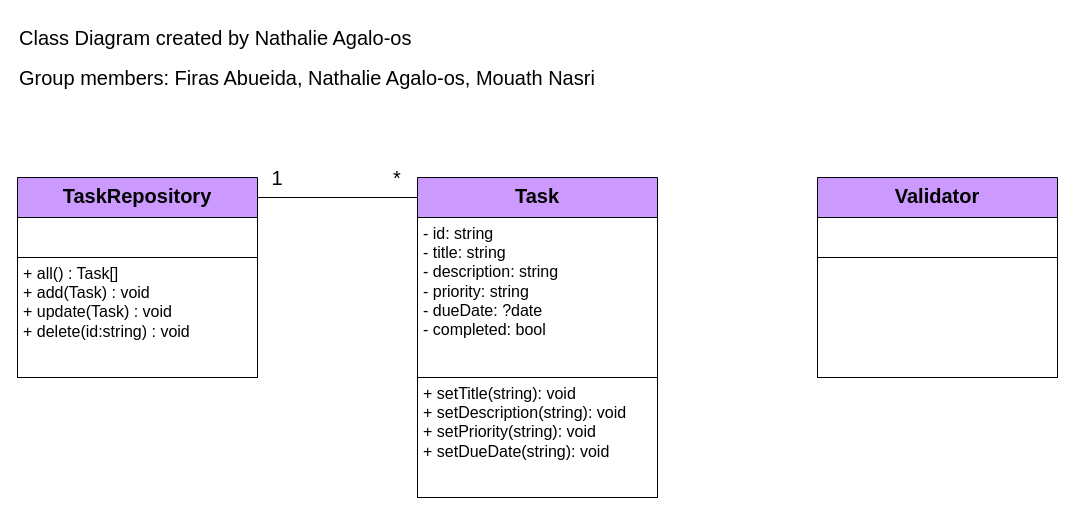
This 1075x517 diagram has some shape labels left out. Here are the shapes that lost their labels. From the top down, the centre of each, then its label:
At (137,237): "- path: string".
At (937,317): "+ validateCreate(input:array) : array /* returns [isValid, errors, sanitized] */".
